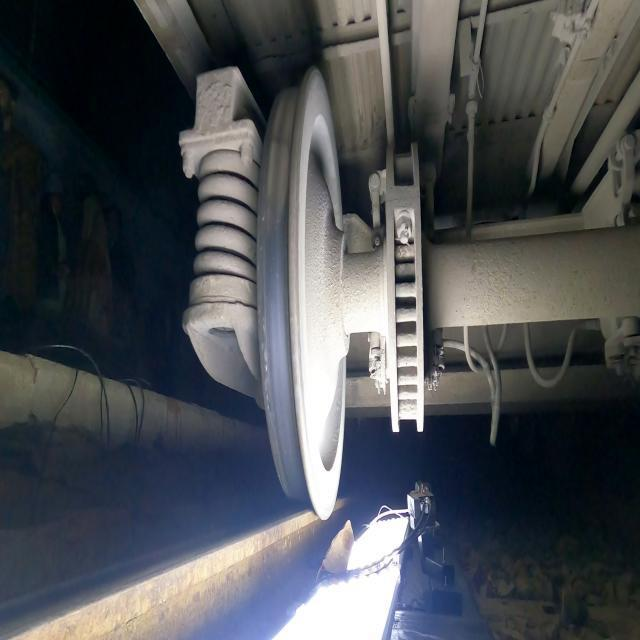Cracks-Scratches: (259, 310, 275, 413)
Shelling: (266, 90, 300, 228)
Wheel: (258, 67, 349, 520)
